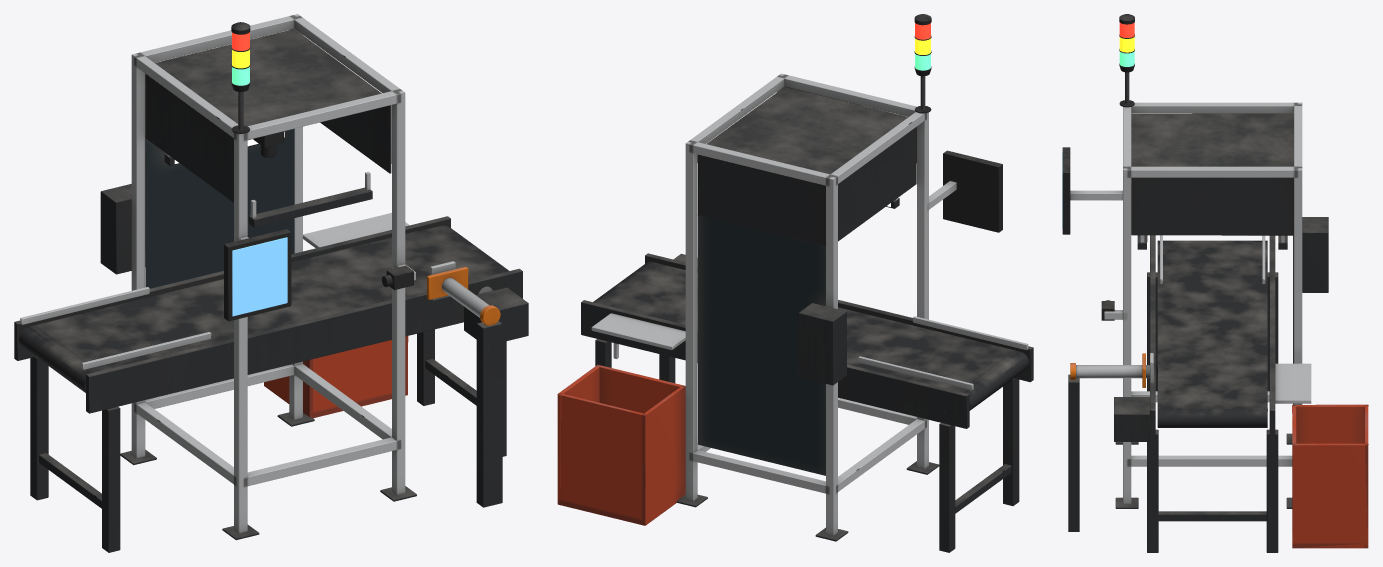
File: InspectionStation.fbx
The picture shows the model from 3 angles, left to right: view 1: azimuth 30°, elevation 25°; view 2: azimuth 150°, elevation 25°; view 3: azimuth 270°, elevation 25°; orthographic projection. The views are drawn at different scales.
Parts seen in each view (by area): view 1: Body_LOD0, Lights_LOD0, Pusher_LOD0, Beacon_LOD0; view 2: Body_LOD0; view 3: Body_LOD0, Beacon_LOD0.
Boxes of the visible parts, box(x1,y1,x2,y2) form: Body_LOD0: box(14, 14, 528, 552); Lights_LOD0: box(164, 130, 372, 227); Pusher_LOD0: box(427, 266, 468, 299); Beacon_LOD0: box(231, 22, 250, 133); Body_LOD0: box(557, 73, 1033, 552); Body_LOD0: box(1062, 102, 1368, 552); Beacon_LOD0: box(1119, 14, 1134, 107).
Size of what is drawn, in the model's own units: 2.2 by 2.46 by 1.61.
Materials: 1 (1 with a texture image).
